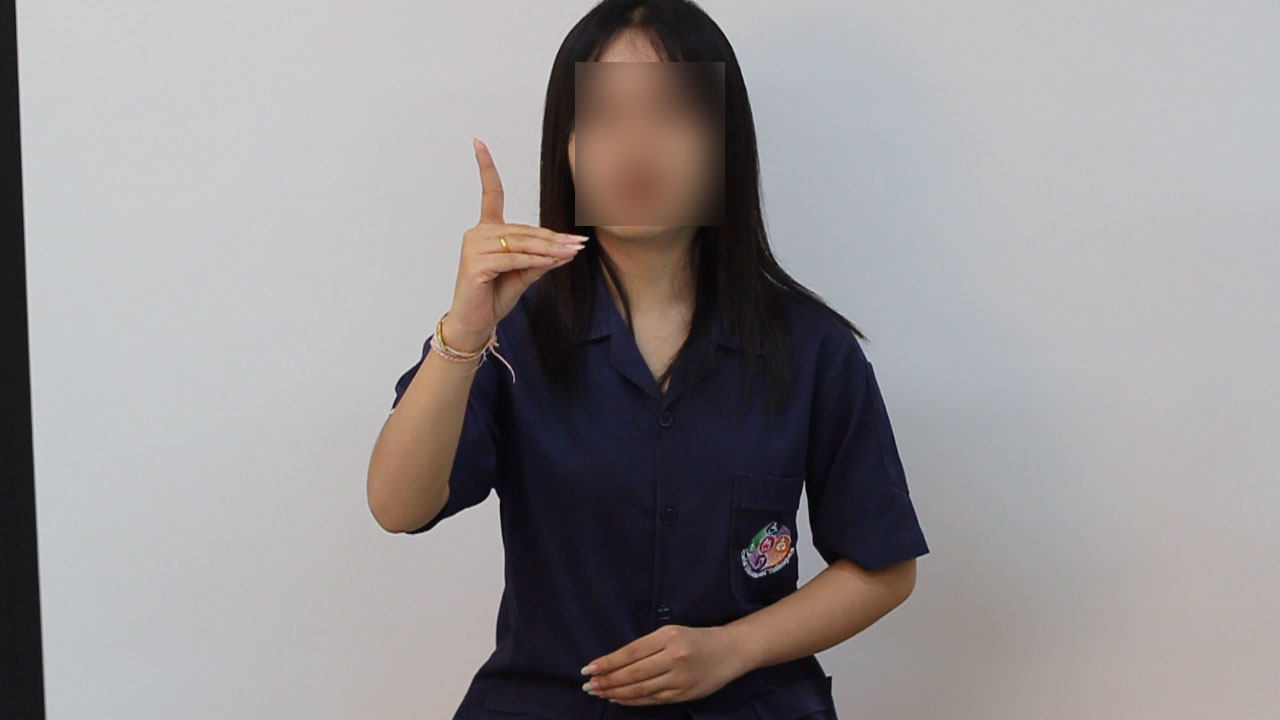dor: (434, 132, 598, 331)
